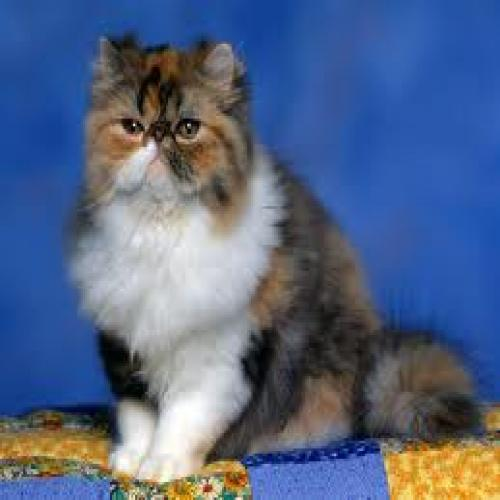persian: (77, 28, 265, 235)
